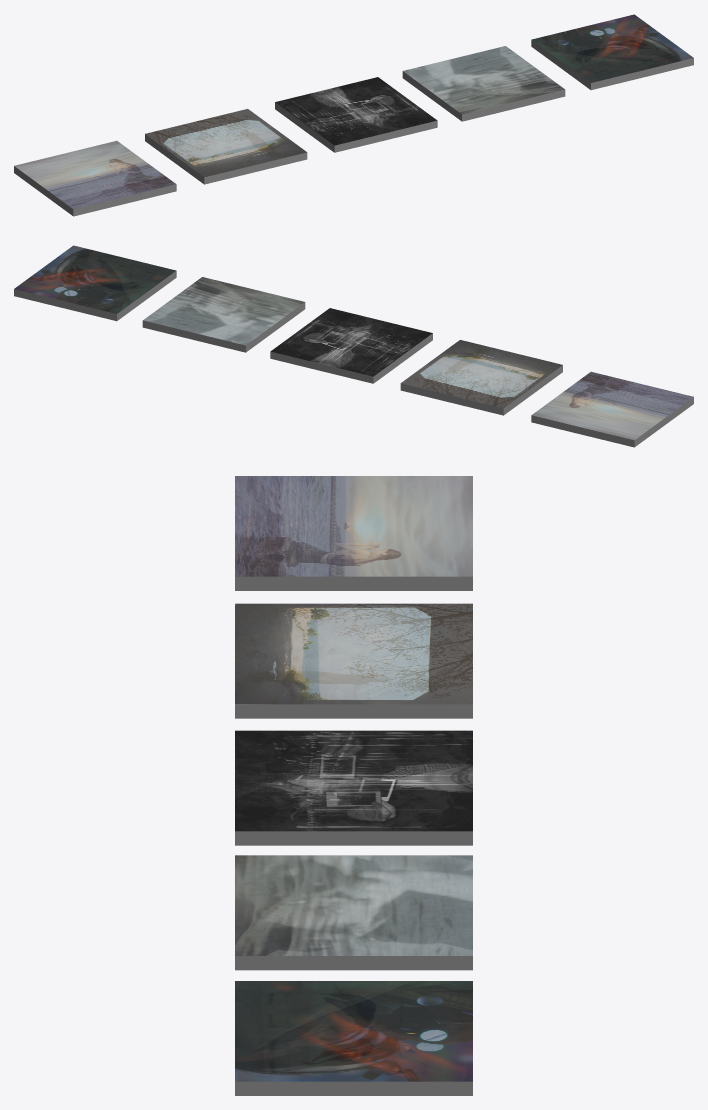
File: slices.fbx
The picture shows the model from 3 angles, top to bottom: view 1: azimuth 30°, elevation 25°; view 2: azimuth 150°, elevation 25°; view 3: azimuth 270°, elevation 25°; orthographic projection. The views are drawn at different scales.
Visible parts, largest first — view 1: slice4, slice5, slice1, slice3, slice2; view 2: slice4, slice5, slice1, slice3, slice2; view 3: slice4, slice3, slice2, slice5, slice1.
Part boxes in pixels (x1,y1,x2,y2): slice4: (402,46,565,121); slice5: (531,14,693,90); slice1: (14,140,176,216); slice3: (275,77,437,152); slice2: (145,109,307,184); slice4: (142,277,305,352); slice5: (14,245,176,321); slice1: (531,371,693,447); slice3: (270,308,432,383); slice2: (400,340,562,415); slice4: (235,855,472,970); slice3: (235,730,472,845); slice2: (235,603,472,718); slice5: (235,981,472,1095); slice1: (235,476,472,590).
Size of the model in its own units: 903 by 10 by 150.
1 material, 1 textured.
